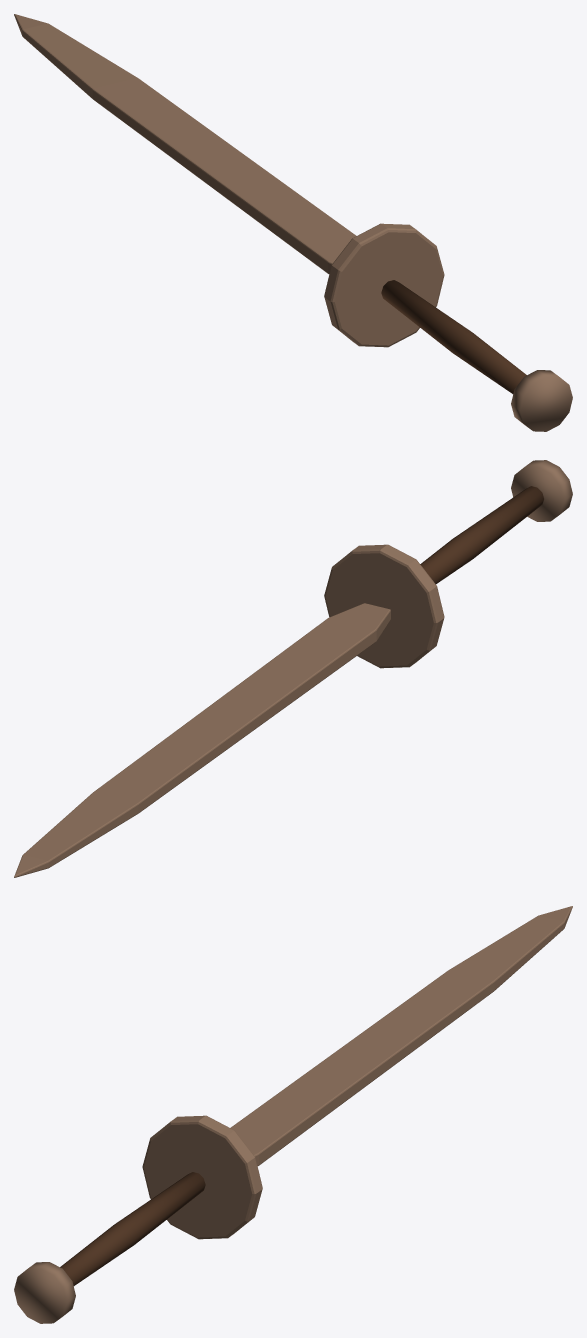
Rendered from greatsword_03_broad_rusty.glb.
3 renders of one model, top to bottom at view 1: azimuth 30°, elevation 25°; view 2: azimuth 150°, elevation 25°; view 3: azimuth 330°, elevation 25°, orthographic.
Visible parts, largest first — view 1: 03_broad_rusty_Blade, 03_broad_rusty_Guard, 03_broad_rusty_Grip, 03_broad_rusty_Pommel; view 2: 03_broad_rusty_Blade, 03_broad_rusty_Guard, 03_broad_rusty_Grip, 03_broad_rusty_Pommel; view 3: 03_broad_rusty_Blade, 03_broad_rusty_Guard, 03_broad_rusty_Grip, 03_broad_rusty_Pommel.
Boxes of the visible parts, x1,y1,x2,y2 form: 03_broad_rusty_Blade: [14, 14, 356, 273]; 03_broad_rusty_Guard: [324, 223, 444, 347]; 03_broad_rusty_Grip: [381, 280, 526, 393]; 03_broad_rusty_Pommel: [511, 370, 572, 431]; 03_broad_rusty_Blade: [14, 603, 390, 877]; 03_broad_rusty_Guard: [324, 544, 444, 668]; 03_broad_rusty_Grip: [420, 486, 543, 583]; 03_broad_rusty_Pommel: [511, 460, 572, 521]; 03_broad_rusty_Blade: [230, 906, 572, 1165]; 03_broad_rusty_Guard: [142, 1115, 262, 1239]; 03_broad_rusty_Grip: [60, 1172, 205, 1285]; 03_broad_rusty_Pommel: [14, 1262, 75, 1323].
Size of the model in its own units: 0.1722 by 0.1722 by 1.4.
